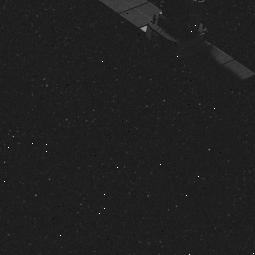soho: (137, 0, 238, 71)
